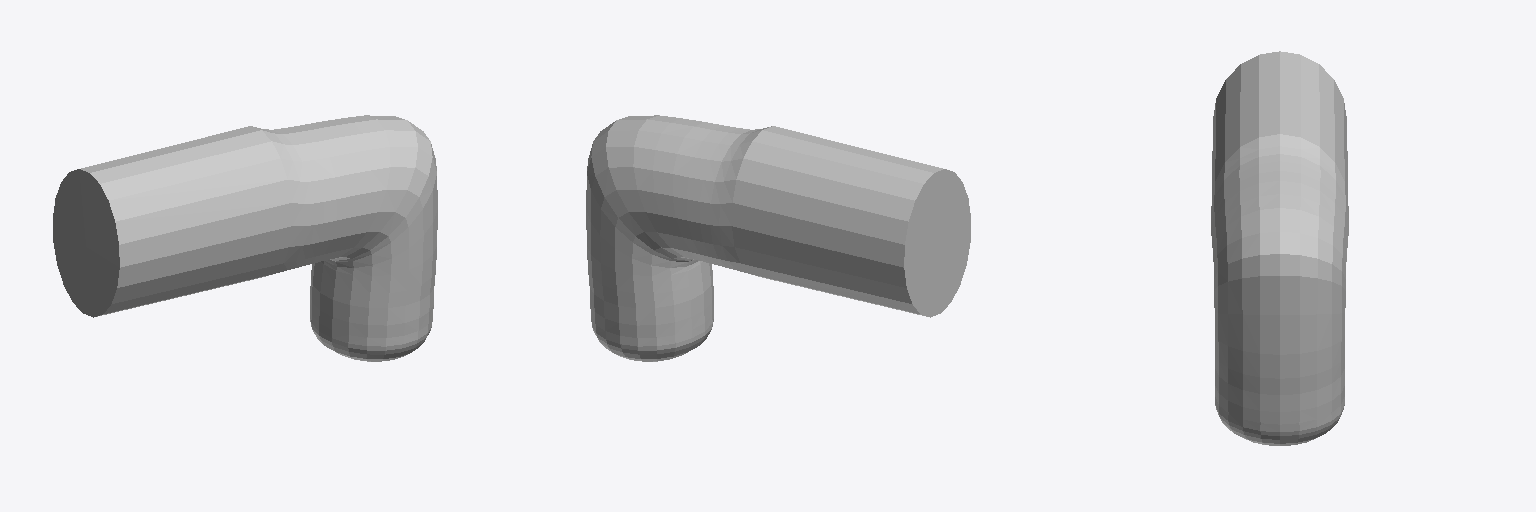
The model's file is Arm_R2.obj.
3 views of the same model, side by side, from view 1: azimuth 30°, elevation 25°; view 2: azimuth 150°, elevation 25°; view 3: azimuth 270°, elevation 25° (orthographic).
Visible parts, largest first — view 1: ARM_R; view 2: ARM_R; view 3: ARM_R.
Part boxes in pixels (x1,y1,x2,y2): ARM_R: (53,115,437,361); ARM_R: (586,115,970,361); ARM_R: (1211,51,1348,445).
Bounding box in the file's own units: 30.21 × 20.77 × 10.45.